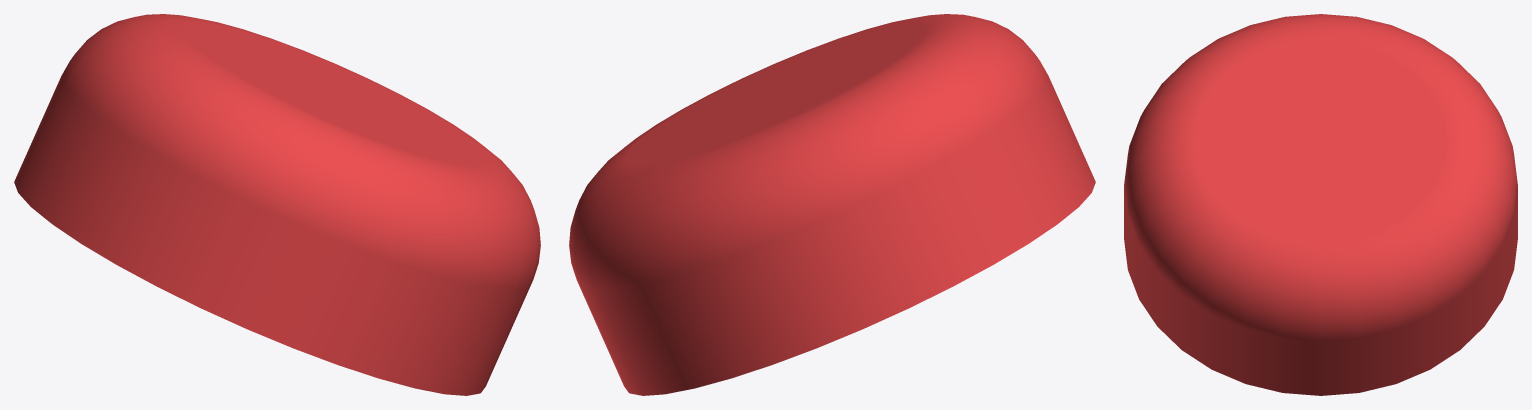
File: Button_Start.gltf
3 renders of one model, left to right at view 1: azimuth 30°, elevation 25°; view 2: azimuth 150°, elevation 25°; view 3: azimuth 270°, elevation 25°, orthographic. The views are drawn at different scales.
Visible parts, largest first — view 1: Cylinder.001; view 2: Cylinder.001; view 3: Cylinder.001.
Boxes of the visible parts, x1,y1,x2,y2 form: Cylinder.001: [14, 14, 540, 395]; Cylinder.001: [569, 14, 1095, 395]; Cylinder.001: [1124, 14, 1517, 395].
Size of the model in its own units: 0.2663 by 0.2006 by 0.2632.
